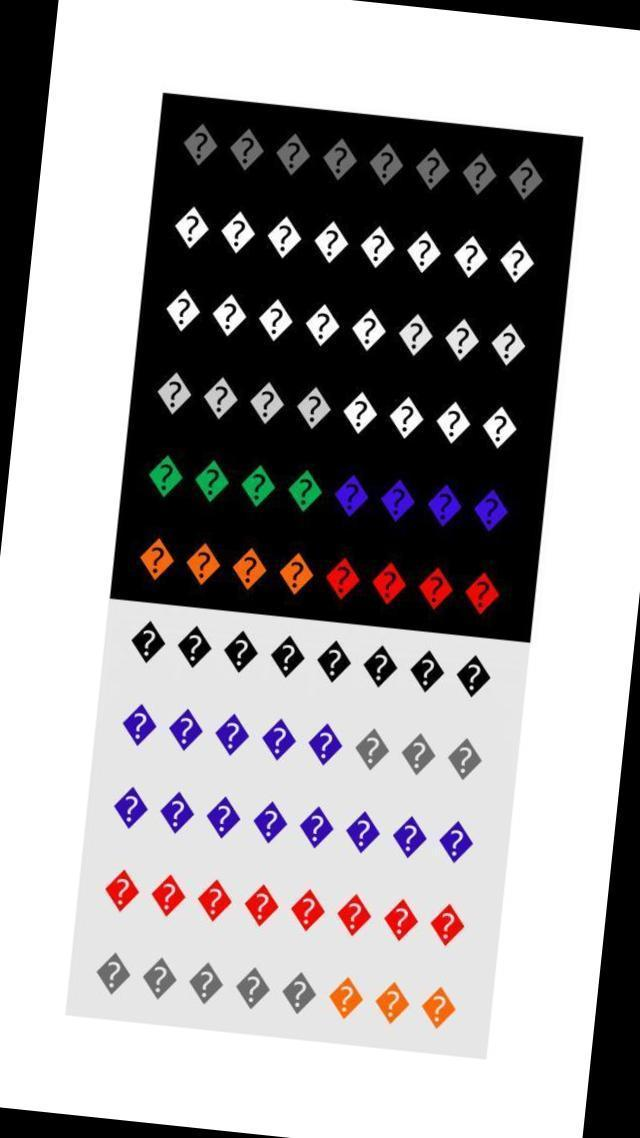ASCII: (102, 783, 152, 837), (448, 647, 494, 703), (98, 862, 144, 918), (382, 391, 426, 448), (292, 804, 340, 856), (157, 284, 205, 336), (478, 403, 526, 455), (374, 478, 422, 530), (226, 961, 273, 1014), (320, 975, 367, 1028), (421, 482, 467, 536), (368, 978, 412, 1034), (123, 613, 169, 666), (86, 951, 133, 1002), (442, 732, 488, 784), (468, 484, 512, 538), (275, 968, 320, 1020), (342, 808, 384, 863), (332, 890, 374, 945), (270, 130, 315, 181), (262, 212, 306, 264), (152, 370, 194, 424), (111, 702, 159, 749), (457, 570, 506, 616), (416, 984, 461, 1034), (133, 536, 177, 587), (484, 323, 531, 370), (288, 386, 336, 432), (192, 874, 232, 929), (286, 885, 330, 935), (376, 894, 420, 944), (358, 642, 401, 693), (266, 632, 308, 684), (505, 156, 551, 203), (215, 210, 262, 256), (351, 725, 395, 774), (181, 541, 225, 590), (386, 815, 430, 864), (456, 151, 500, 200), (448, 235, 492, 284), (309, 218, 352, 268), (364, 142, 408, 190), (338, 390, 382, 438), (182, 960, 224, 1010), (410, 146, 452, 196), (146, 868, 187, 919), (392, 315, 436, 362), (412, 564, 455, 612), (247, 800, 290, 848), (401, 228, 443, 277), (406, 646, 444, 700), (158, 789, 198, 840), (354, 224, 396, 272), (254, 298, 296, 346), (300, 302, 342, 350), (348, 308, 390, 356), (204, 794, 244, 844), (226, 547, 270, 592), (178, 122, 219, 170), (432, 400, 473, 448), (302, 721, 342, 770), (370, 560, 410, 609), (248, 381, 288, 430), (496, 241, 540, 285), (142, 456, 186, 500), (329, 475, 372, 520), (136, 958, 178, 1004), (206, 294, 248, 340), (428, 902, 469, 949), (218, 630, 258, 678), (442, 318, 482, 366), (227, 128, 266, 177), (174, 621, 212, 671), (237, 464, 281, 507), (312, 639, 354, 684), (395, 731, 437, 776), (168, 206, 210, 250), (188, 462, 232, 504), (282, 469, 324, 513), (210, 712, 250, 758), (321, 138, 361, 184), (166, 706, 205, 752), (202, 377, 241, 422), (259, 718, 297, 764), (438, 818, 474, 866), (322, 558, 362, 601), (278, 553, 316, 596), (243, 886, 281, 927)
